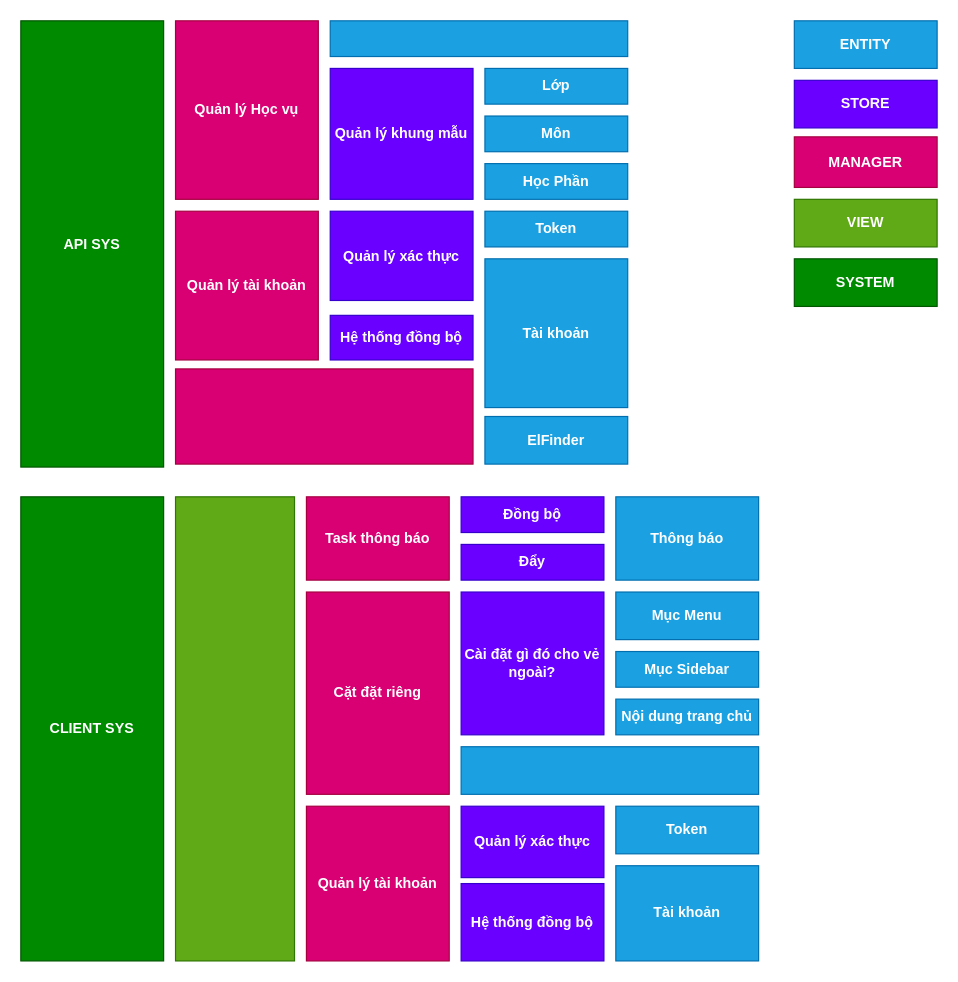
This 958x982 diagram has some shape labels left out. Here are the shapes that lost their labels. From the top down, the box of each, then its label:
(329, 20, 628, 57): Lịch
(174, 368, 473, 464): Quản lý tệp tin
(174, 496, 295, 961): Giao diện
(460, 746, 759, 794): Cấu hình, ETC
